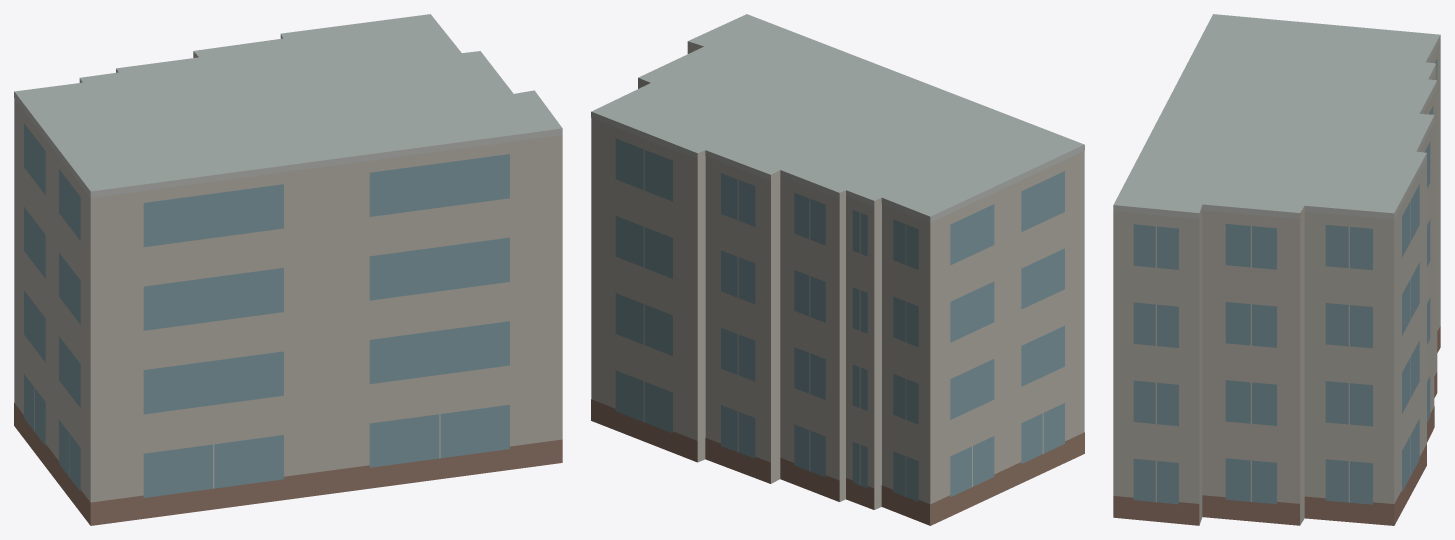
File: survey-upis-32920035.glb
3 views of the same model, side by side, from view 1: azimuth 30°, elevation 25°; view 2: azimuth 150°, elevation 25°; view 3: azimuth 270°, elevation 25° (orthographic). The views are drawn at different scales.
Parts seen in each view (by area): view 1: survey-upis-32920035.tmp; view 2: survey-upis-32920035.tmp; view 3: survey-upis-32920035.tmp.
Part boxes in pixels (<box>): survey-upis-32920035.tmp: <box>14,14,562,525</box>; survey-upis-32920035.tmp: <box>591,14,1084,525</box>; survey-upis-32920035.tmp: <box>1113,14,1440,525</box>.
Size of the model in its own units: 17.2 by 12.57 by 11.94.
